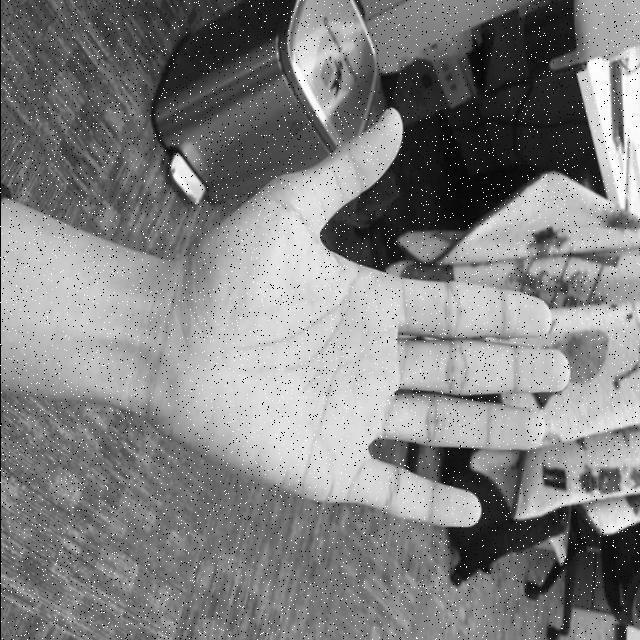hand: (116, 104, 572, 530)
